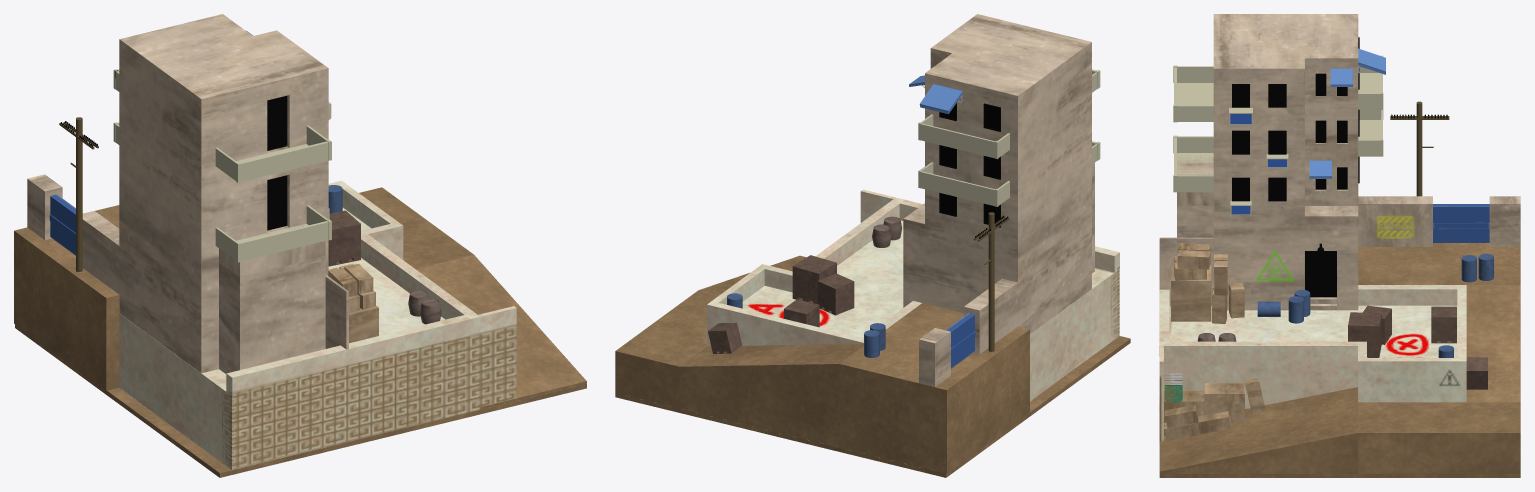
The model's file is Dust2.fbx.
3 renders of one model, left to right at view 1: azimuth 30°, elevation 25°; view 2: azimuth 150°, elevation 25°; view 3: azimuth 270°, elevation 25°, orthographic. The views are drawn at different scales.
Parts seen in each view (by area): view 1: pCube2; view 2: pCube2; view 3: pCube2.
Boxes of the visible parts, x1,y1,x2,y2 form: pCube2: (14, 14, 586, 477); pCube2: (615, 14, 1130, 477); pCube2: (1159, 14, 1520, 477).
Bounding box in the file's own units: 20.72 × 19.01 × 19.99.
